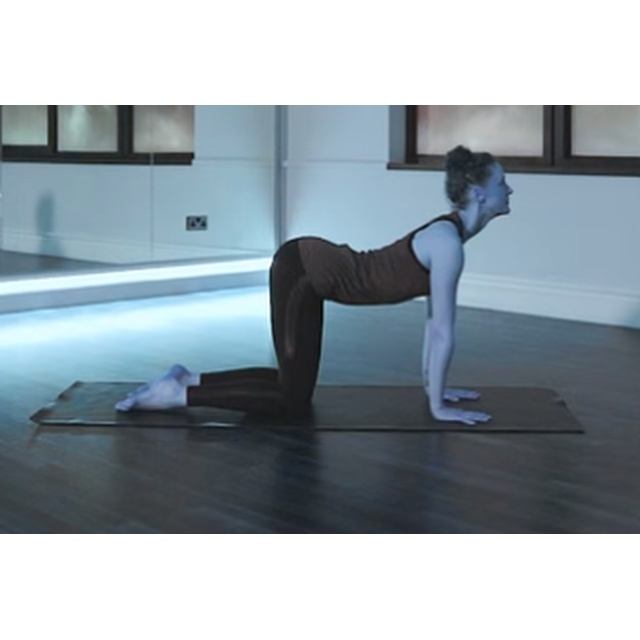Cow_Pose: (108, 145, 514, 427)
